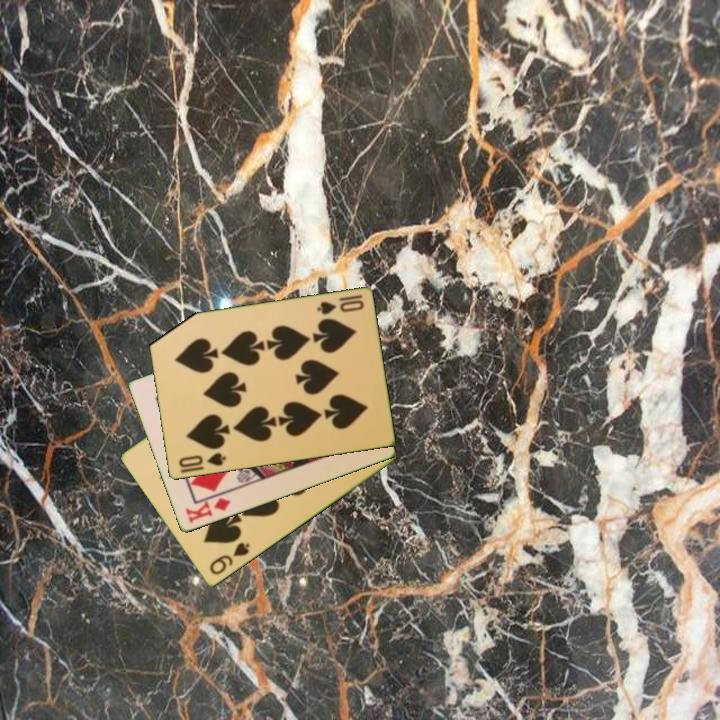10s: (313, 292, 366, 318), (175, 449, 229, 471)
9s: (206, 539, 253, 579)
Kd: (181, 494, 234, 527)
